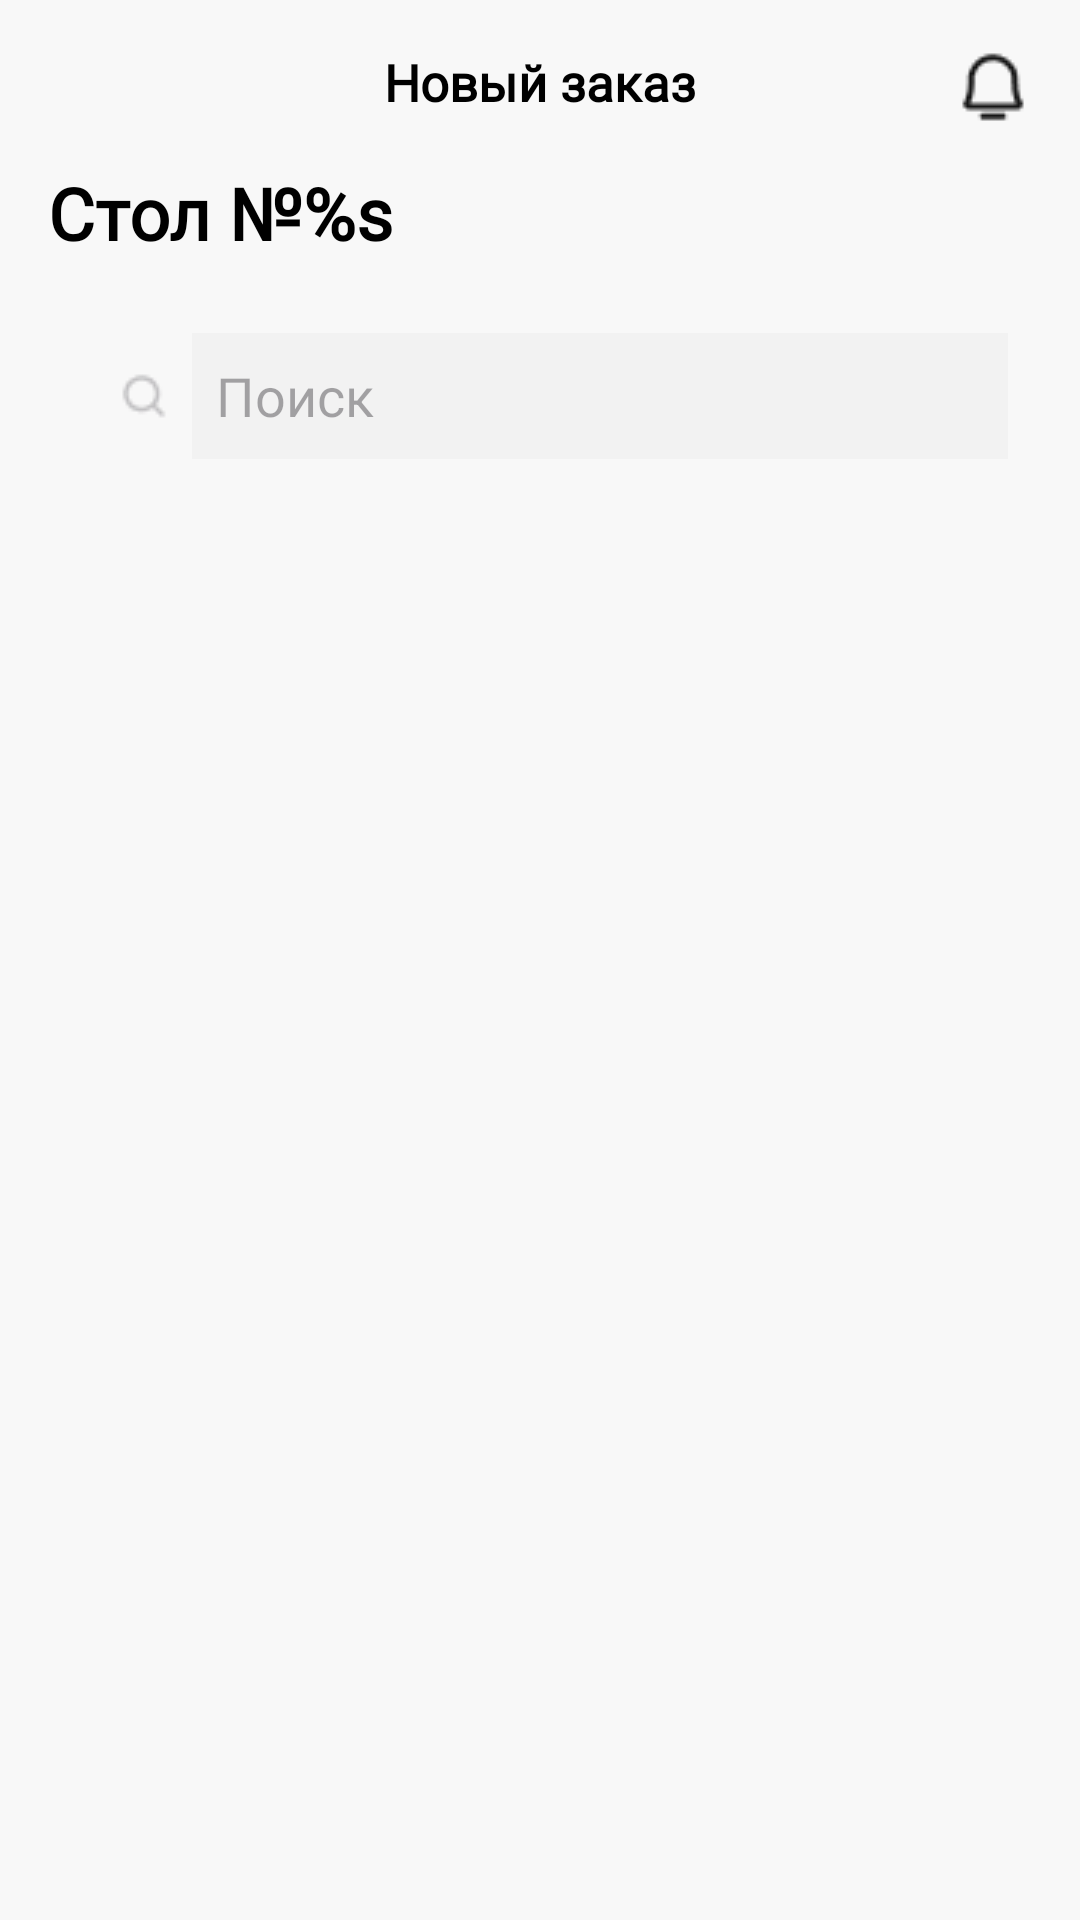

Screen size 1080 × 1920. Icon name, then its box in pixels as {"x1": x1, "y1": y1, "x2": x2, "y2": y2}:
bell: {"x1": 962, "y1": 53, "x2": 1024, "y2": 121}
